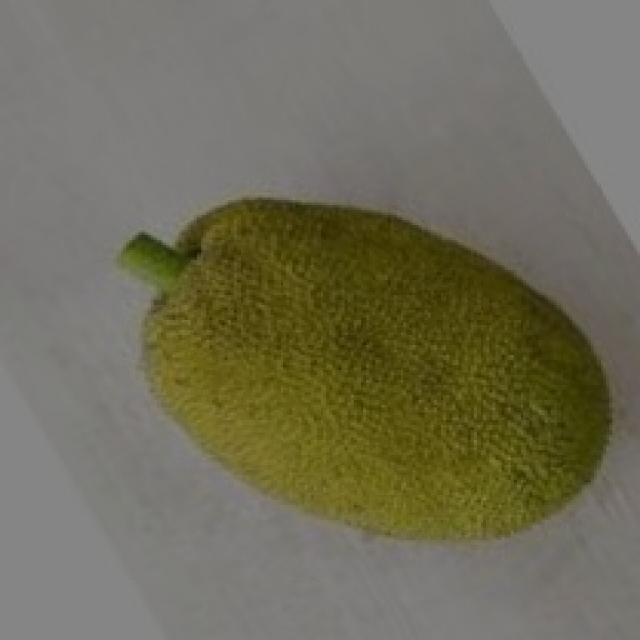Fruit: (228, 175, 634, 575)
